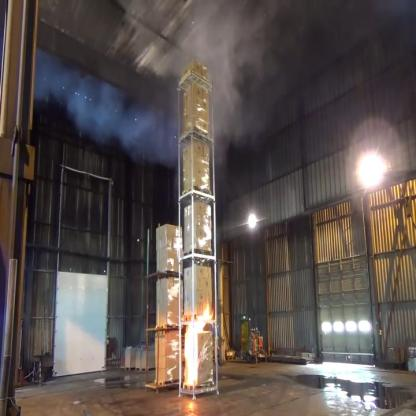fire: (183, 304, 214, 388)
